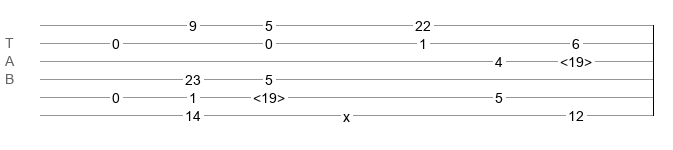0: (112, 36, 120, 46), (112, 90, 120, 100), (265, 36, 273, 46)
1: (189, 90, 197, 100), (419, 36, 427, 46)
12: (568, 108, 584, 118)
14: (185, 108, 201, 118)
22: (415, 18, 431, 28)
23: (185, 72, 201, 82)
4: (495, 54, 503, 64)
5: (265, 72, 273, 82), (265, 18, 273, 28), (495, 90, 503, 100)
6: (572, 36, 580, 46)
9: (189, 18, 197, 28)
harmonic: (253, 90, 285, 100), (560, 54, 592, 64)
x: (343, 109, 350, 117)
